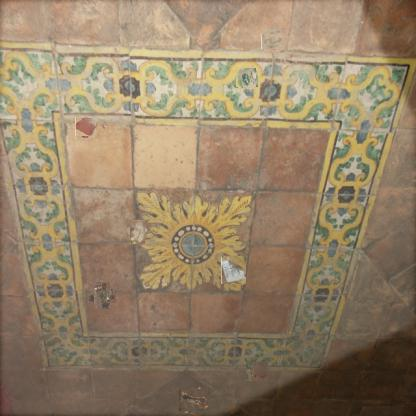dirty: (221, 256, 246, 284), (180, 388, 206, 414), (92, 284, 114, 306), (237, 68, 257, 88), (127, 222, 147, 242), (263, 32, 282, 51)
liquid: (247, 361, 268, 381), (76, 118, 96, 137)
